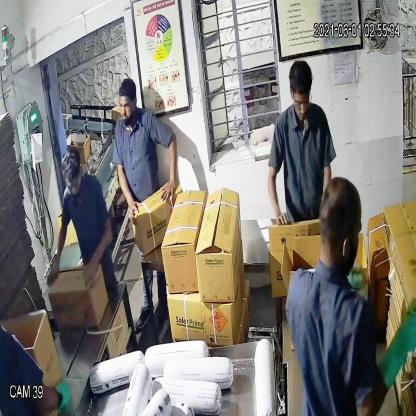goggles: (288, 85, 317, 115)
